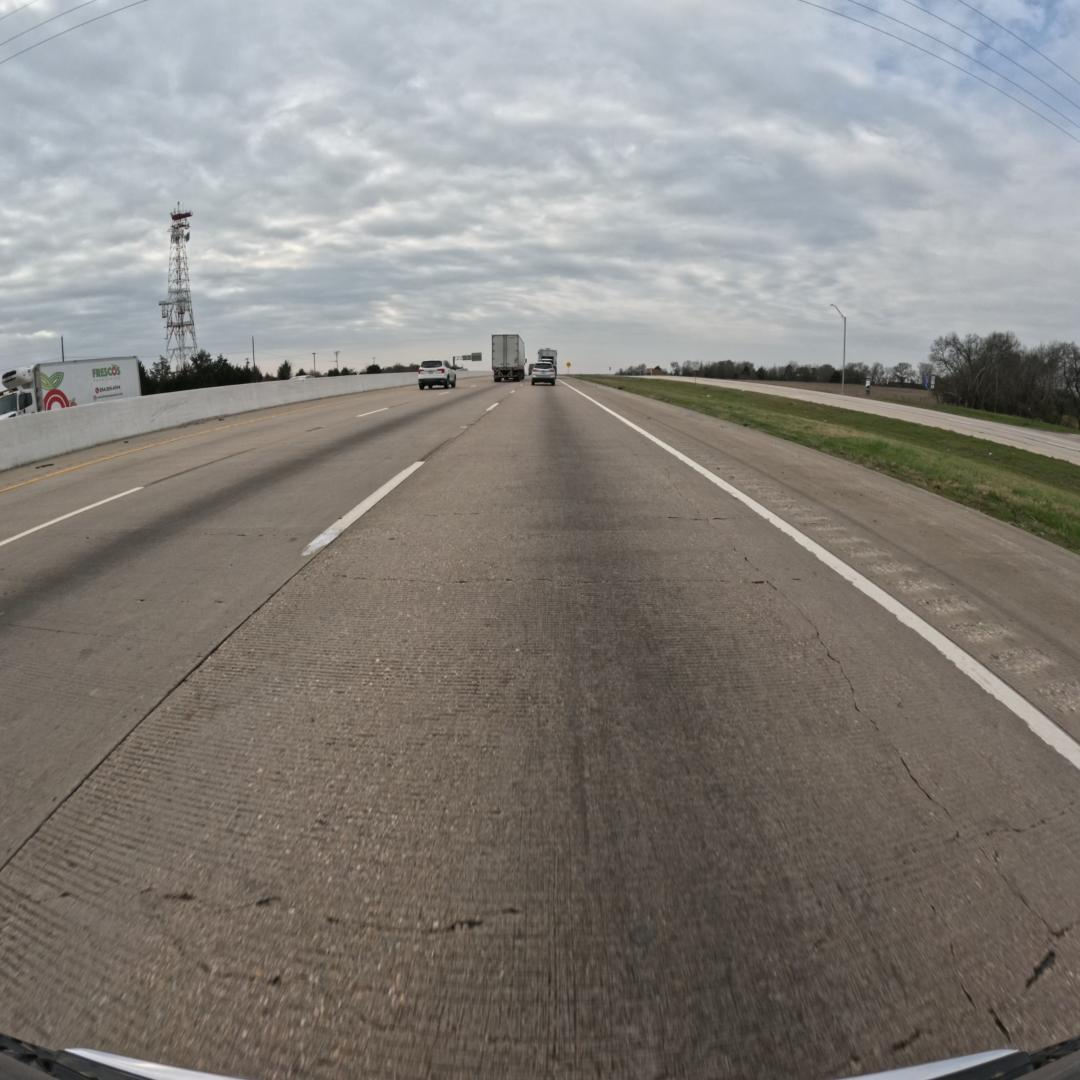lane0: (0, 385, 1080, 1077)
lane1: (0, 383, 525, 867)
